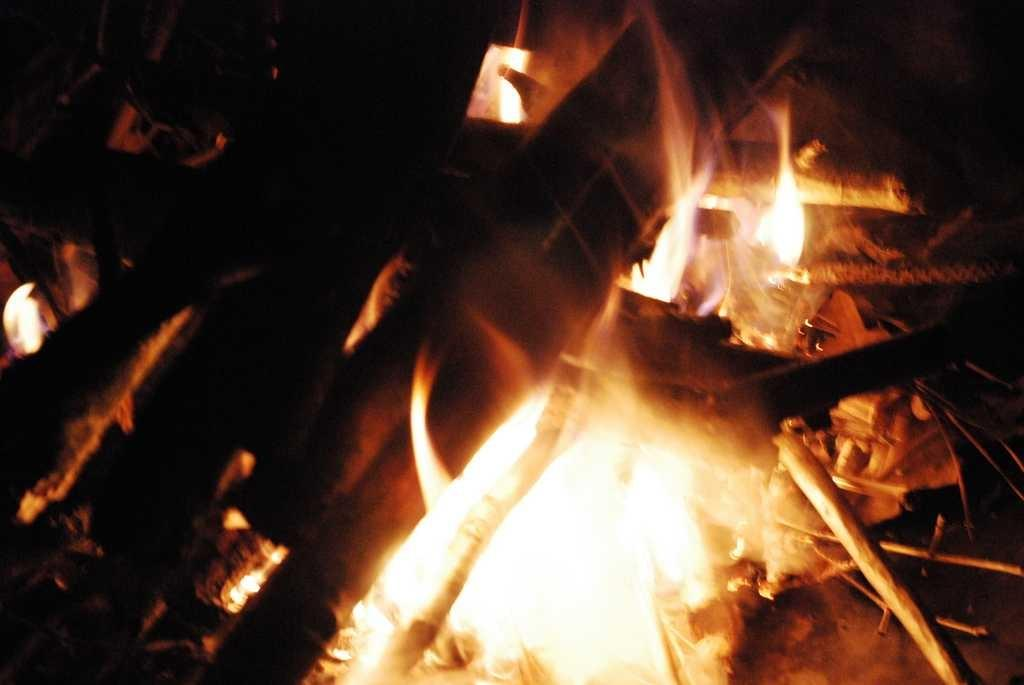fire: (543, 450, 683, 658), (655, 223, 697, 287), (770, 192, 807, 247)
